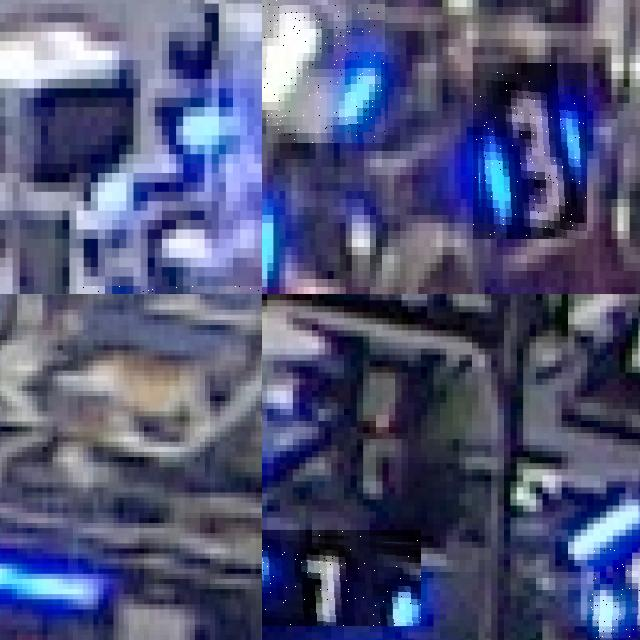B1: (262, 529, 421, 626), (587, 547, 640, 638)
B3: (473, 63, 587, 239), (262, 0, 385, 143)
